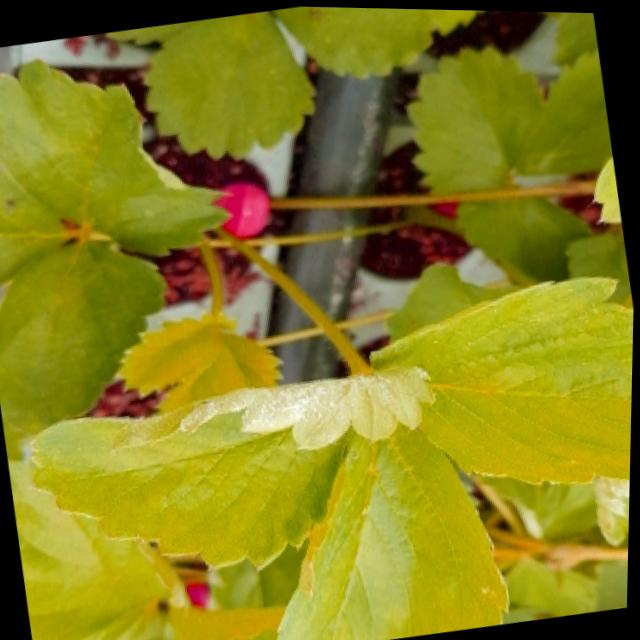Powdery Mildew Leaf: (31, 359, 438, 574), (593, 294, 635, 545)
